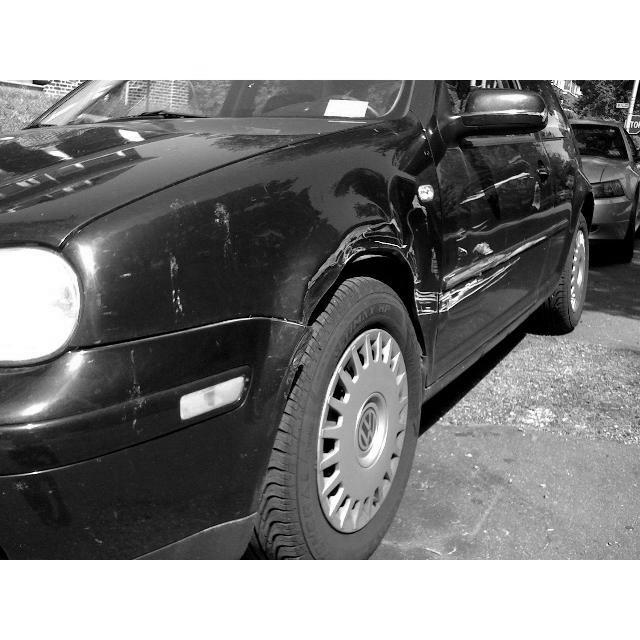fender-dent: (280, 159, 448, 337)
